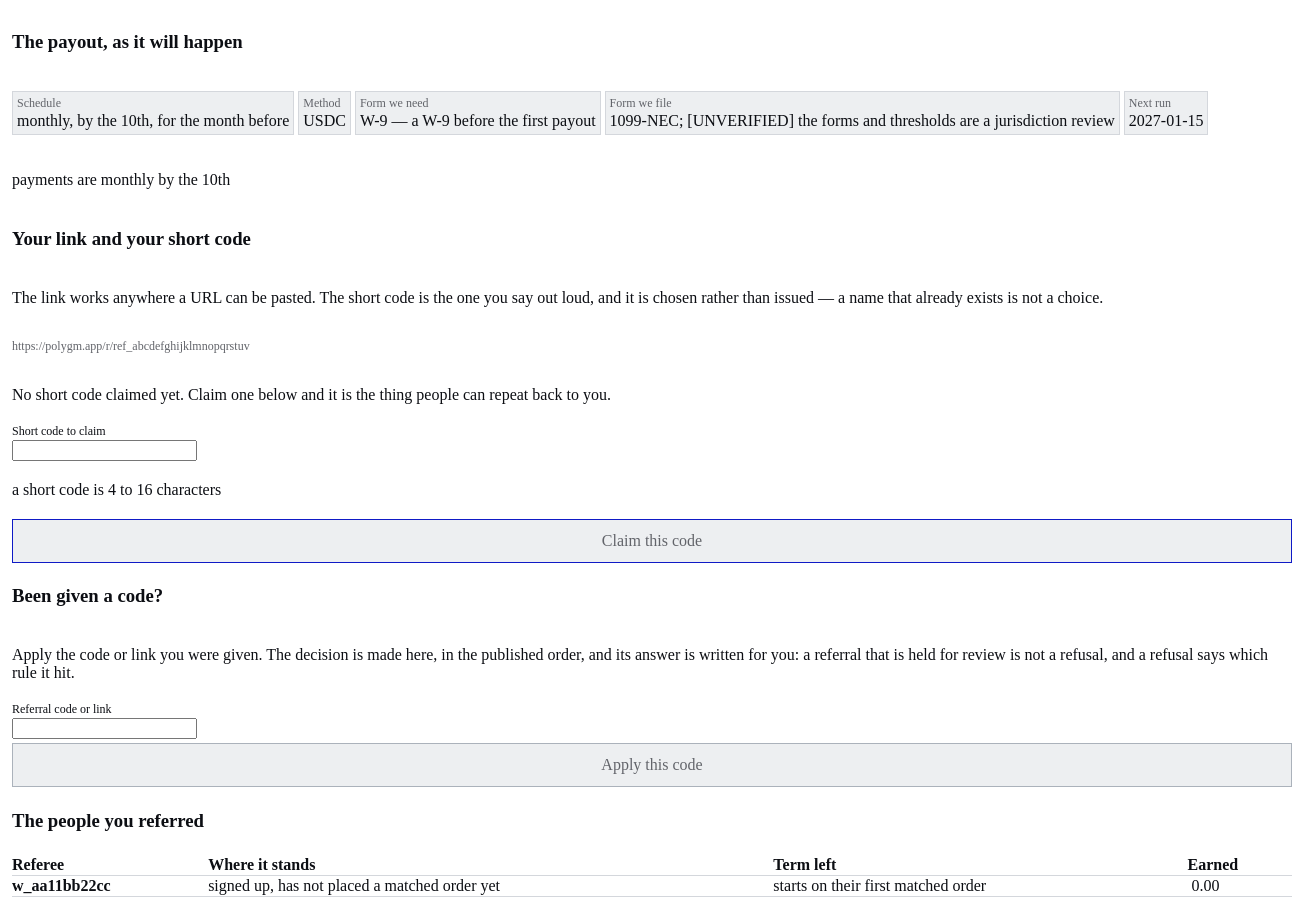
Scenario: the referral dashboard › renders a refused short code as the rule that broke, and writes nothing else
(page scrolled)
Type "polygm" into the field labelled "Short code to claim" at x=104, y=450, box x1=12 y1=440 x2=197 y2=461
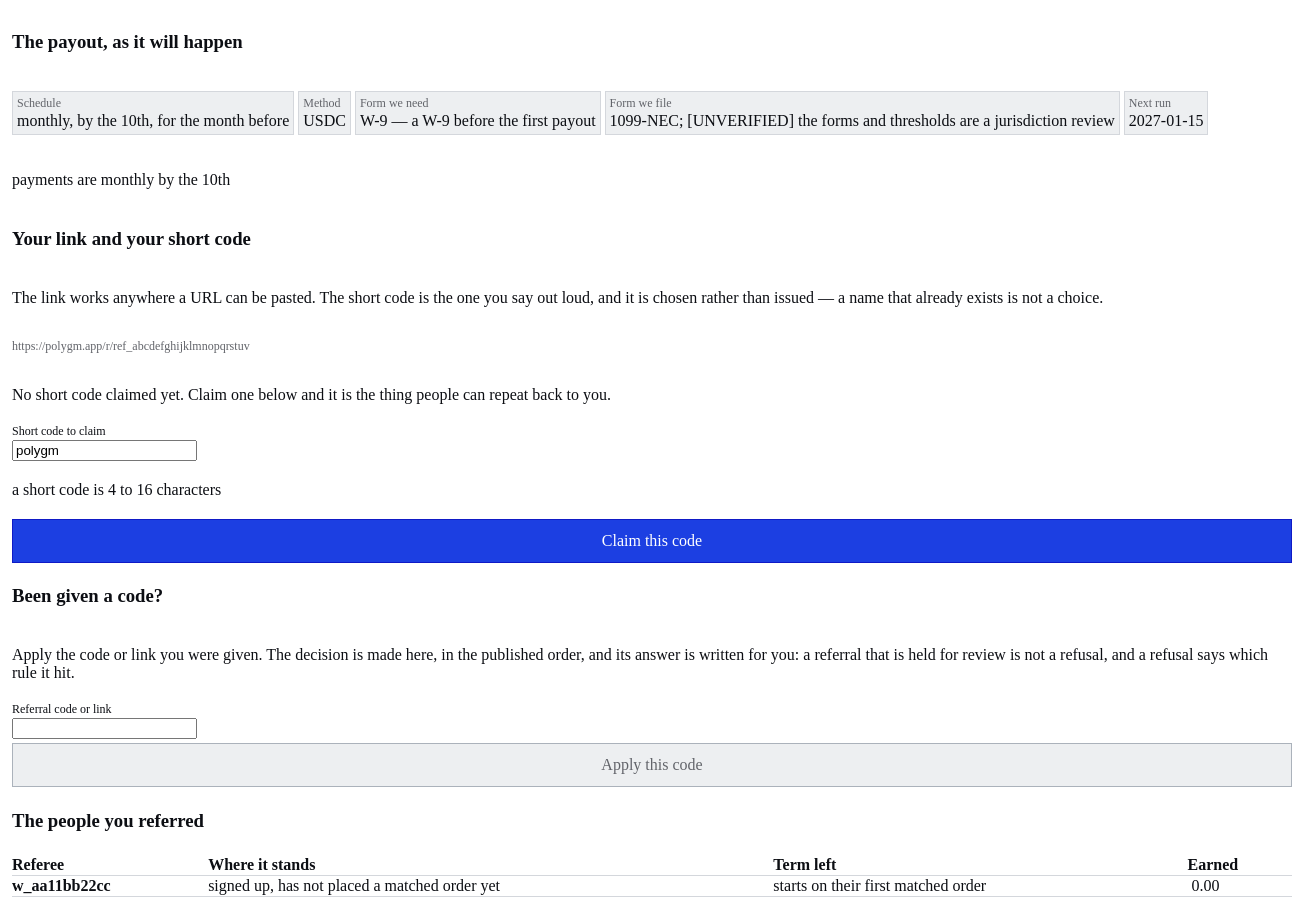
Click the button "Claim this code" at x=652, y=541, box x1=12 y1=519 x2=1292 y2=563
(page scrolled)
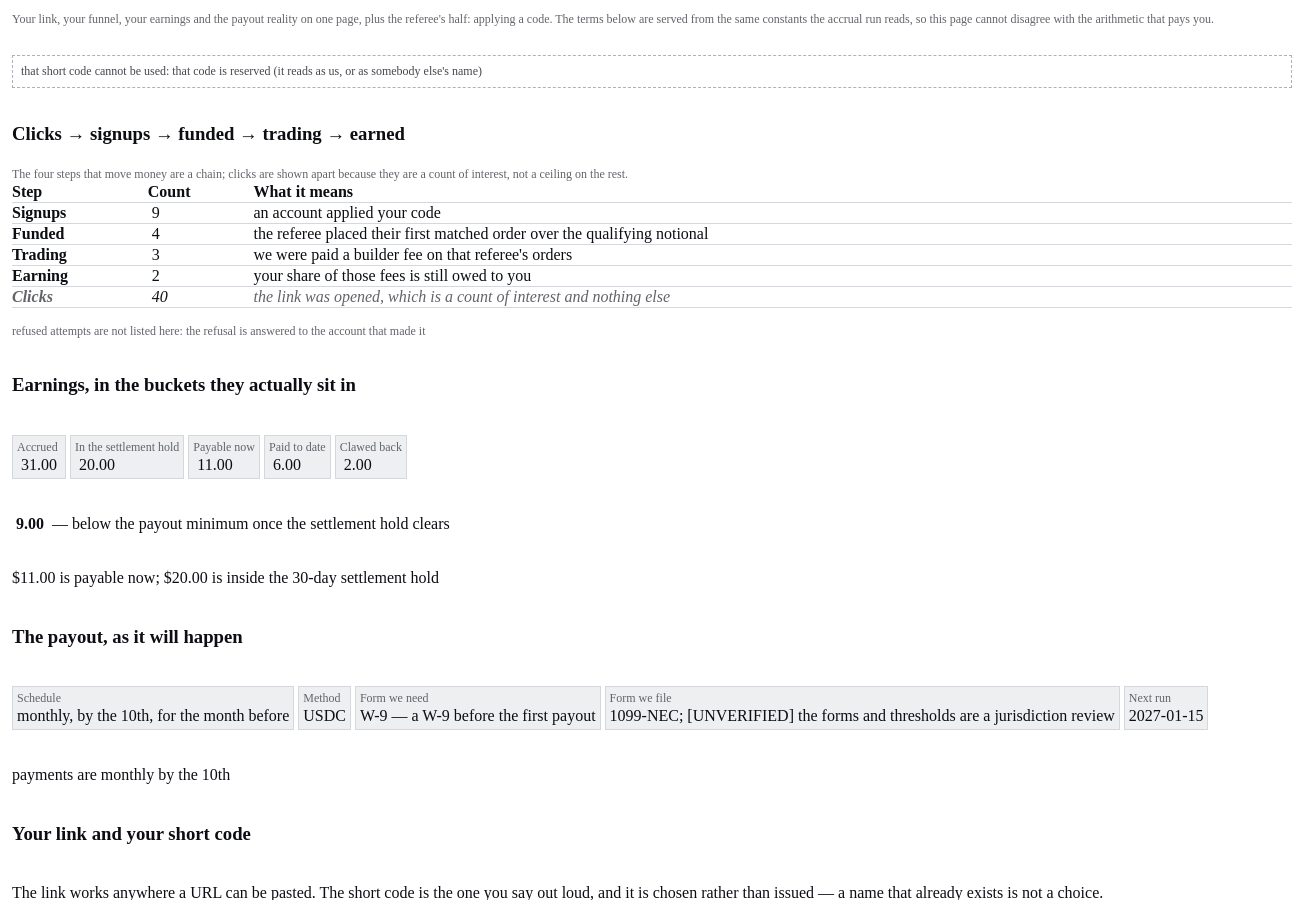
Expected: the text "that code is reserved" is shown, x1=21 y1=64 x2=482 y2=78
